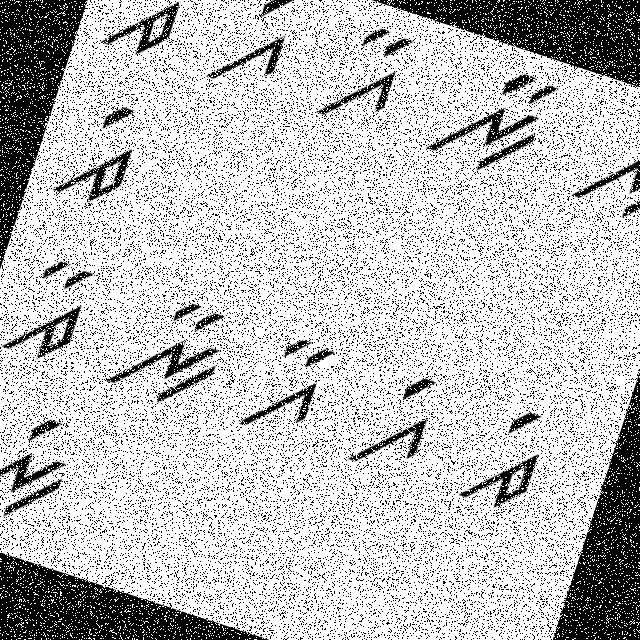gan: (227, 316, 346, 456), (306, 7, 422, 144)
gang: (340, 352, 450, 483), (193, 0, 309, 115)
ngan: (95, 278, 240, 420), (426, 48, 566, 190)
ngang: (0, 387, 94, 537), (561, 95, 639, 241)
tan: (0, 240, 110, 376), (92, 0, 208, 73)
tang: (439, 389, 559, 534), (44, 88, 154, 220)
